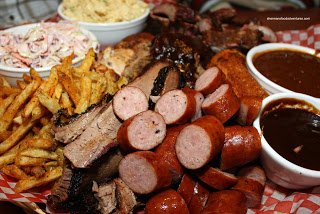sushi: (257, 92, 320, 191), (56, 1, 154, 46), (246, 43, 320, 101)
